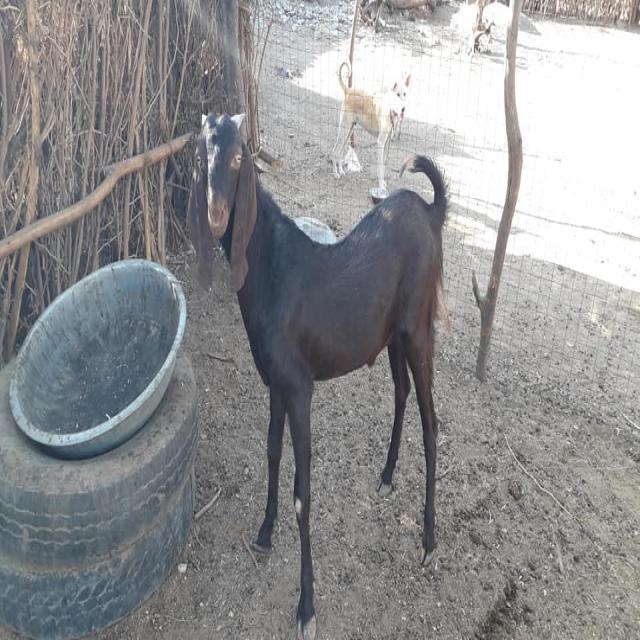Goat: (185, 109, 451, 638)
